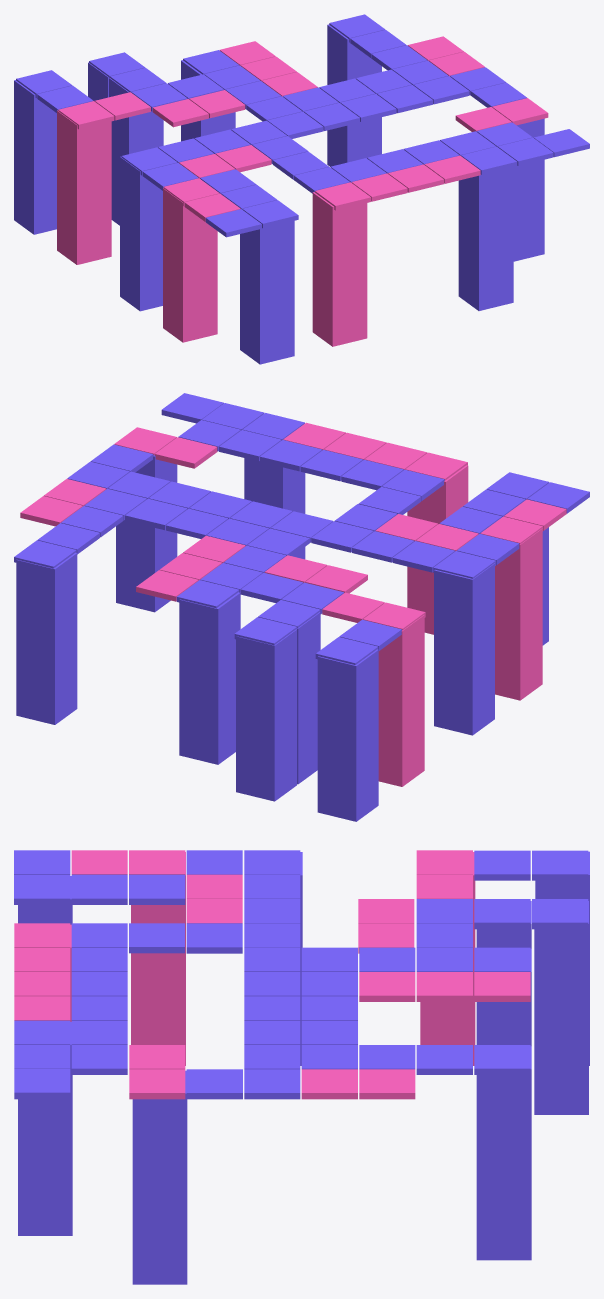
The picture shows the model from 3 angles, top to bottom: view 1: azimuth 30°, elevation 25°; view 2: azimuth 150°, elevation 25°; view 3: azimuth 270°, elevation 25°; orthographic projection. The views are drawn at different scales.
Visible parts, largest first — view 1: pillar_5, pillar_2, pillar_6, pillar, pillar_1, pillar_3, pillar_4, pillar_9, pillar_7, pillar_11, pillar_10, Cube_4 (+63 smaller); view 2: pillar_3, pillar_9, pillar_4, pillar_12, pillar_10, pillar_1, pillar_2, pillar_7, pillar_11, pillar_5, pillar_6, Cube (+63 smaller); view 3: pillar_7, pillar_9, pillar_12, pillar_6, pillar_1, pillar_2, pillar_10, Cube_3_4, Cube_0_7, Cube_0_11, Cube_2, Cube_3 (+61 smaller).
Boxes of the visible parts, <box> form: pillar_5: <box>312,192,367,346</box>; pillar_2: <box>57,110,111,264</box>; pillar_6: <box>458,167,513,310</box>; pillar: <box>240,221,294,364</box>; pillar_1: <box>163,188,217,342</box>; pillar_3: <box>14,80,56,234</box>; pillar_4: <box>120,156,162,311</box>; pillar_9: <box>327,24,381,166</box>; pillar_7: <box>513,118,544,261</box>; pillar_11: <box>109,78,163,225</box>; pillar_10: <box>181,60,235,141</box>; Cube_4: <box>205,209,261,237</box>; pillar_3: <box>317,649,378,821</box>; pillar_9: <box>16,552,77,724</box>; pillar_4: <box>434,563,494,735</box>; pillar_12: <box>236,629,296,801</box>; pillar_10: <box>179,592,240,764</box>; pillar_1: <box>495,528,542,700</box>; pillar_2: <box>378,615,424,786</box>; pillar_7: <box>116,455,177,612</box>; pillar_11: <box>297,612,320,784</box>; pillar_5: <box>407,465,468,634</box>; pillar_6: <box>244,458,305,559</box>; Cube: <box>154,437,217,468</box>; pillar_7: <box>132,1070,187,1284</box>; pillar_9: <box>476,1046,531,1260</box>; pillar_12: <box>534,901,588,1114</box>; pillar_6: <box>18,1022,72,1235</box>; pillar_1: <box>131,852,185,1065</box>; pillar_2: <box>420,852,475,1065</box>; pillar_10: <box>476,948,531,1046</box>; Cube_3_4: <box>186,923,242,953</box>; Cube_0_7: <box>474,850,530,880</box>; Cube_0_11: <box>474,899,530,929</box>; Cube_2: <box>129,1069,185,1099</box>; Cube_3: <box>186,1069,242,1099</box>.
Bounding box in the file's own units: 821 × 304 × 820.
